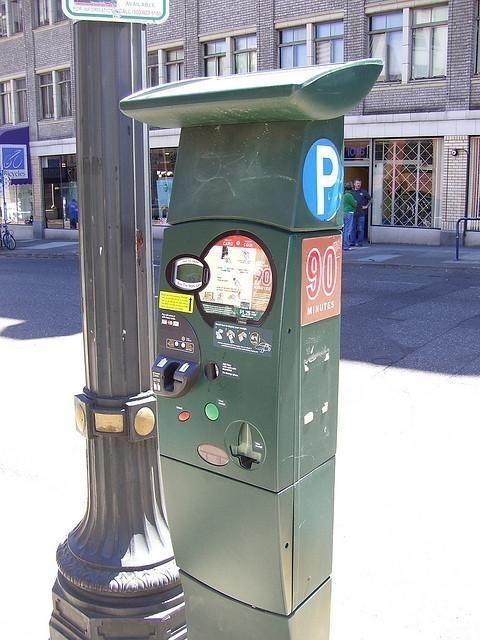bicycle: (1, 220, 16, 250)
